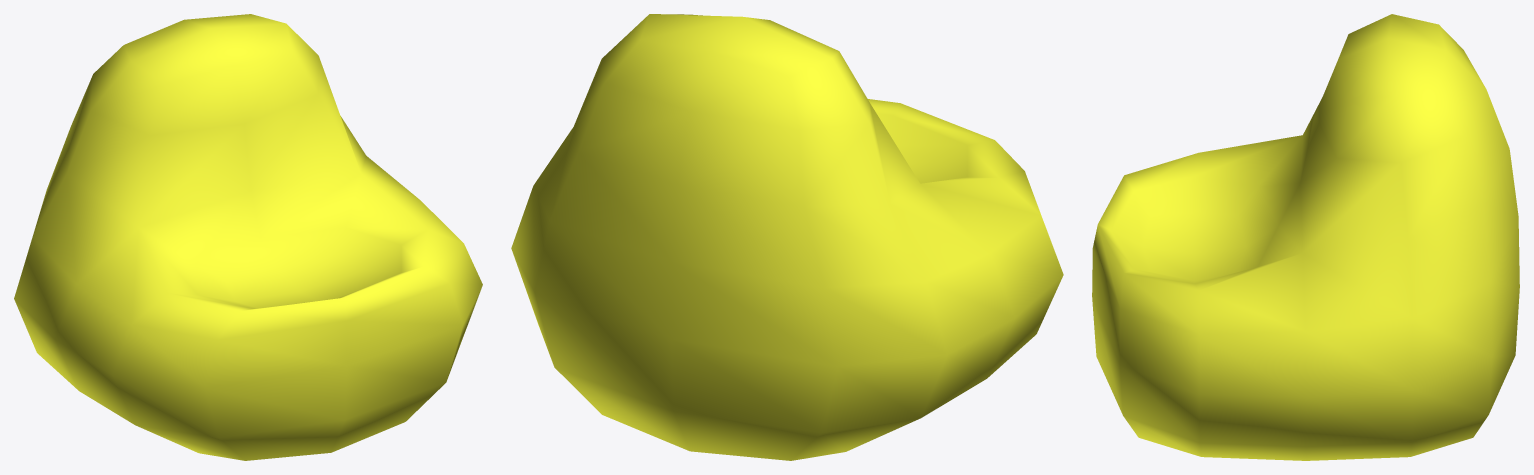
The model's file is Props_BeanBag_01.fbx.
3 renders of one model, left to right at view 1: azimuth 30°, elevation 25°; view 2: azimuth 150°, elevation 25°; view 3: azimuth 270°, elevation 25°, orthographic. The views are drawn at different scales.
Parts seen in each view (by area): view 1: Props_BeanBag_01; view 2: Props_BeanBag_01; view 3: Props_BeanBag_01.
Boxes of the visible parts, x1,y1,x2,y2 form: Props_BeanBag_01: (14,14,482,460); Props_BeanBag_01: (511,14,1063,460); Props_BeanBag_01: (1092,14,1519,460).
Bounding box in the file's own units: 75.96 × 66.95 × 67.08.
